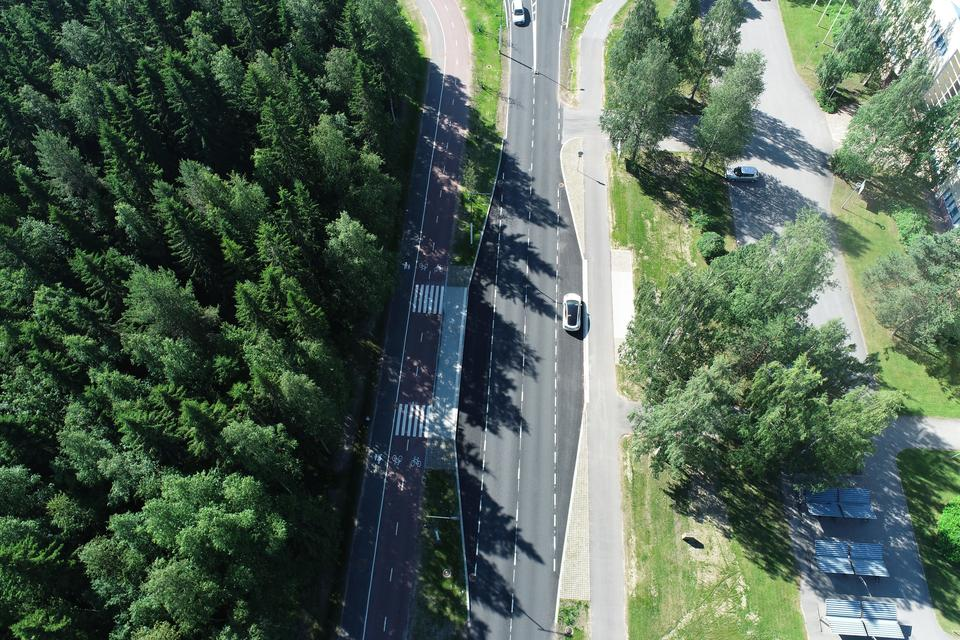intersection: (490, 92, 635, 156)
